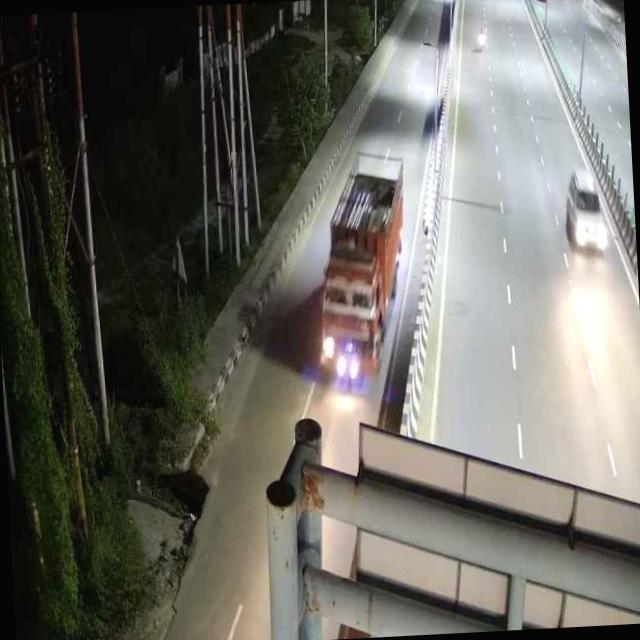car: (558, 167, 611, 257)
